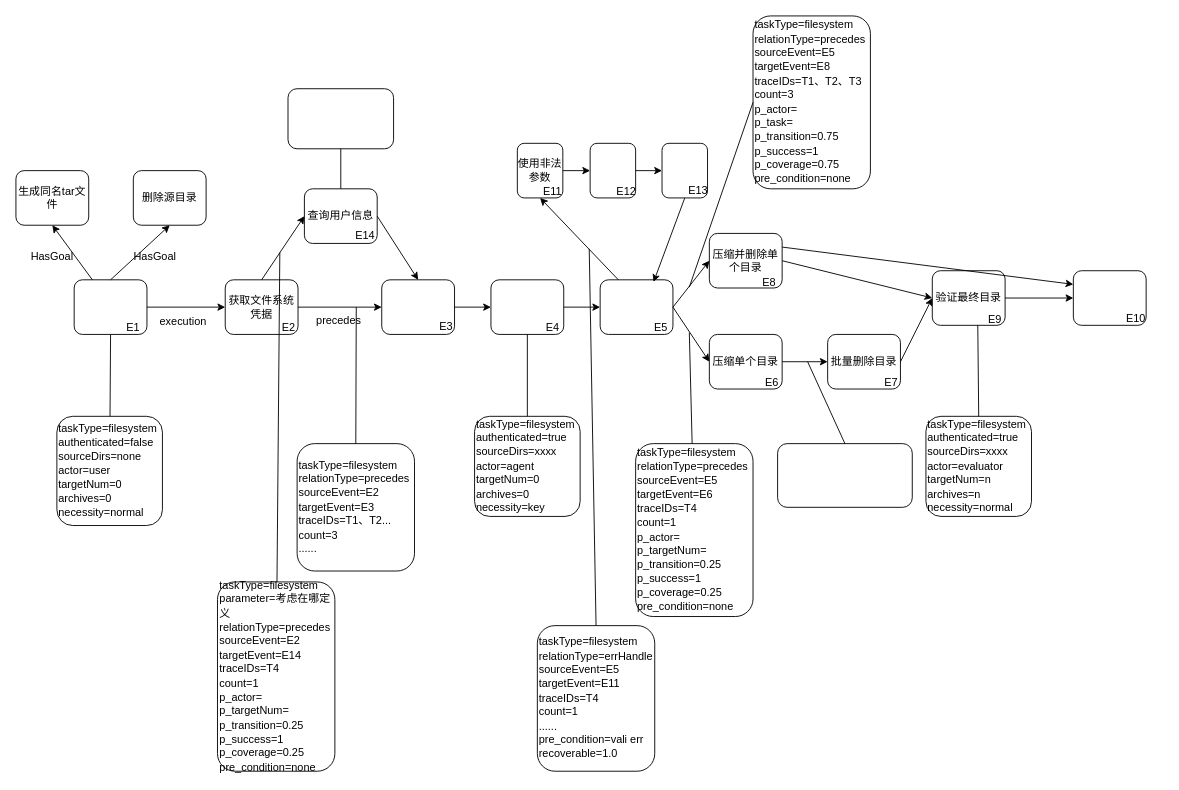
The diagram is 1179 pixels wide and 790 high, and some of its shapes have lost their labels. The box of each missing label's shape, as (x1, y1, x2, y2) in pixels:
...... necessity=redundant: (287, 88, 394, 149)
...... pre_condition=E6 × n: (777, 443, 912, 507)
任务成功: (1072, 270, 1146, 325)
修正参数并重试: (661, 142, 708, 198)
压缩子目录并删除源目录: (73, 279, 147, 334)
枚举工作文件列表: (599, 279, 673, 334)
查看工作目录: (490, 279, 564, 334)
登录文件系统: (381, 279, 455, 334)
读取错误信息: (589, 142, 636, 198)
